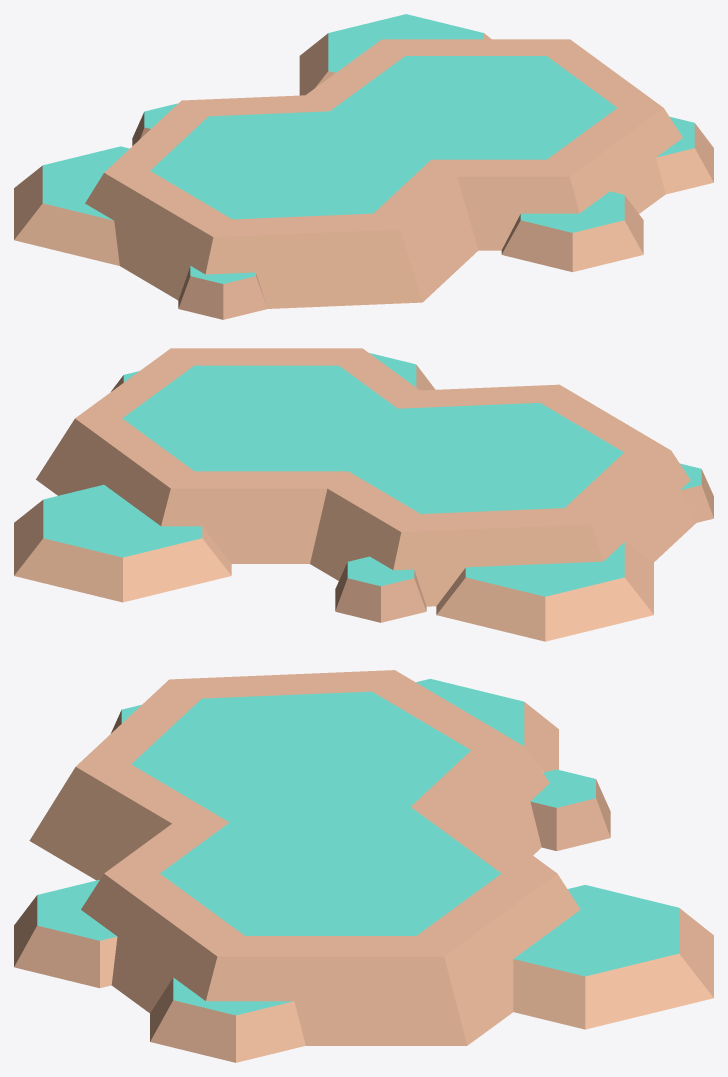
Rendered from platform_grass.gltf.
3 renders of one model, top to bottom at view 1: azimuth 30°, elevation 25°; view 2: azimuth 150°, elevation 25°; view 3: azimuth 270°, elevation 25°, orthographic. The views are drawn at different scales.
Parts seen in each view (by area): view 1: platform_grass; view 2: platform_grass; view 3: platform_grass.
Part boxes in pixels (x1,y1,x2,y2): platform_grass: [14, 14, 713, 319]; platform_grass: [14, 348, 713, 641]; platform_grass: [14, 670, 713, 1062].
Bounding box in the file's own units: 0.8932 × 0.0825 × 0.7239.
